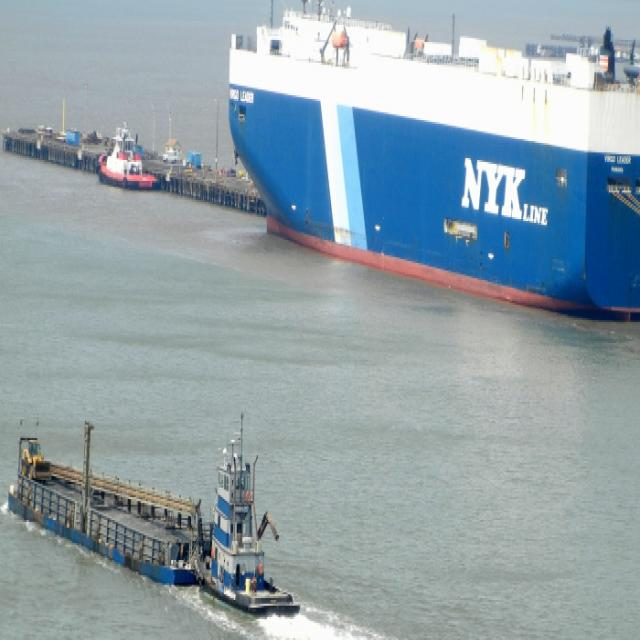tugboat: (191, 443, 304, 626), (95, 115, 166, 209)
